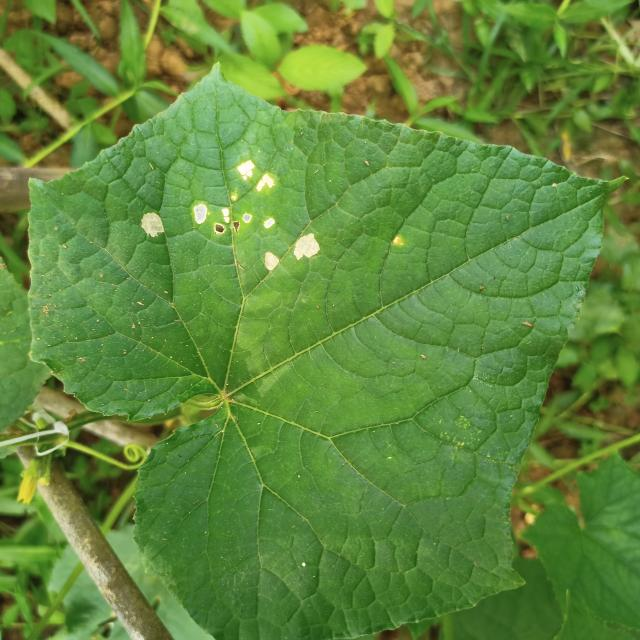disease_cucumber: (141, 161, 321, 274)
